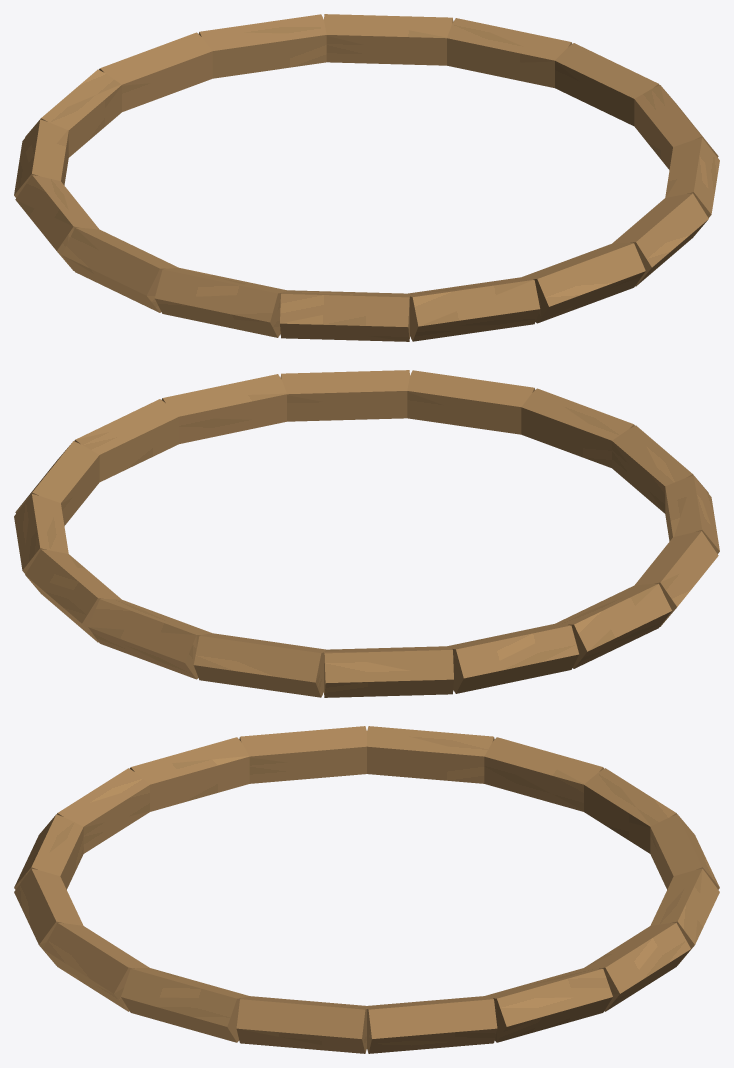
The model's file is rubber_band.glb.
3 renders of one model, top to bottom at view 1: azimuth 30°, elevation 25°; view 2: azimuth 150°, elevation 25°; view 3: azimuth 270°, elevation 25°, orthographic.
Visible parts, largest first — view 1: block_closed rubber loop5, block_closed rubber loop4, block_closed rubber loop6, block_closed rubber loop13, block_closed rubber loop12, block_closed rubber loop14, block_closed rubber loop3, block_closed rubber loop7, block_closed rubber loop11, block_closed rubber loop15, block_closed rubber loop2, block_closed rubber loop10 (+4 smaller); view 2: block_closed rubber loop10, block_closed rubber loop11, block_closed rubber loop9, block_closed rubber loop2, block_closed rubber loop3, block_closed rubber loop1, block_closed rubber loop12, block_closed rubber loop8, block_closed rubber loop4, block_closed rubber loop0, block_closed rubber loop13, block_closed rubber loop5 (+4 smaller); view 3: block_closed rubber loop0, block_closed rubber loop15, block_closed rubber loop7, block_closed rubber loop8, block_closed rubber loop1, block_closed rubber loop14, block_closed rubber loop6, block_closed rubber loop9, block_closed rubber loop2, block_closed rubber loop13, block_closed rubber loop5, block_closed rubber loop10 (+4 smaller).
Boxes of the visible parts, <box> form: block_closed rubber loop5: <box>280,290,409,341</box>; block_closed rubber loop4: <box>408,277,540,341</box>; block_closed rubber loop6: <box>154,267,286,337</box>; block_closed rubber loop13: <box>324,14,453,65</box>; block_closed rubber loop12: <box>198,14,326,78</box>; block_closed rubber loop14: <box>447,18,572,87</box>; block_closed rubber loop3: <box>522,243,645,323</box>; block_closed rubber loop7: <box>62,227,178,312</box>; block_closed rubber loop11: <box>99,32,212,111</box>; block_closed rubber loop15: <box>555,43,659,125</box>; block_closed rubber loop2: <box>612,193,708,286</box>; block_closed rubber loop10: <box>25,69,121,157</box>; block_closed rubber loop10: <box>324,646,453,697</box>; block_closed rubber loop11: <box>193,633,325,697</box>; block_closed rubber loop9: <box>447,623,579,693</box>; block_closed rubber loop2: <box>280,370,409,421</box>; block_closed rubber loop3: <box>407,370,535,434</box>; block_closed rubber loop1: <box>161,374,286,443</box>; block_closed rubber loop12: <box>88,599,211,679</box>; block_closed rubber loop8: <box>555,583,671,668</box>; block_closed rubber loop4: <box>521,388,634,467</box>; block_closed rubber loop0: <box>74,399,178,481</box>; block_closed rubber loop13: <box>25,549,121,642</box>; block_closed rubber loop5: <box>612,425,708,513</box>; block_closed rubber loop0: <box>236,996,366,1053</box>; block_closed rubber loop15: <box>367,996,497,1053</box>; block_closed rubber loop7: <box>239,726,366,783</box>; block_closed rubber loop8: <box>367,726,494,783</box>; block_closed rubber loop1: <box>121,968,248,1042</box>; block_closed rubber loop14: <box>485,968,612,1042</box>; block_closed rubber loop6: <box>130,737,249,811</box>; block_closed rubber loop9: <box>484,737,603,811</box>; block_closed rubber loop2: <box>43,922,149,1011</box>; block_closed rubber loop13: <box>584,922,690,1011</box>; block_closed rubber loop5: <box>57,768,149,853</box>; block_closed rubber loop10: <box>584,768,676,853</box>.
Bounding box in the file's own units: 0.0495 × 0.00342 × 0.0495.
1 material, 1 textured.
